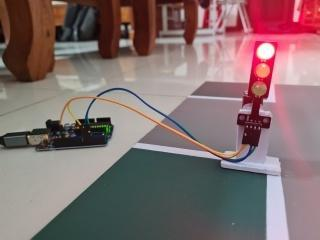red: (246, 31, 282, 113)
